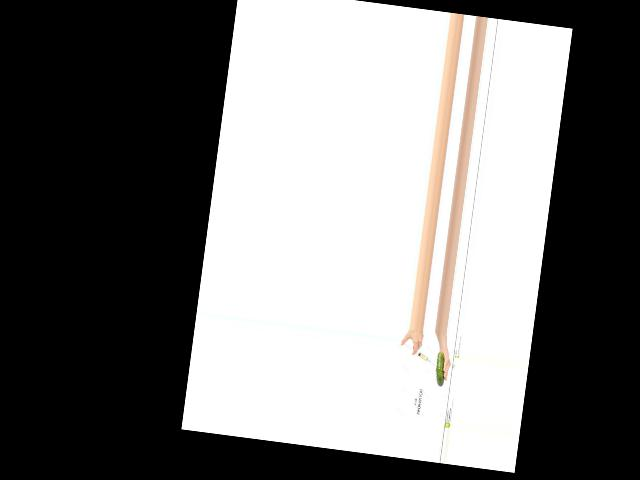cucumber: (434, 351, 447, 386)
